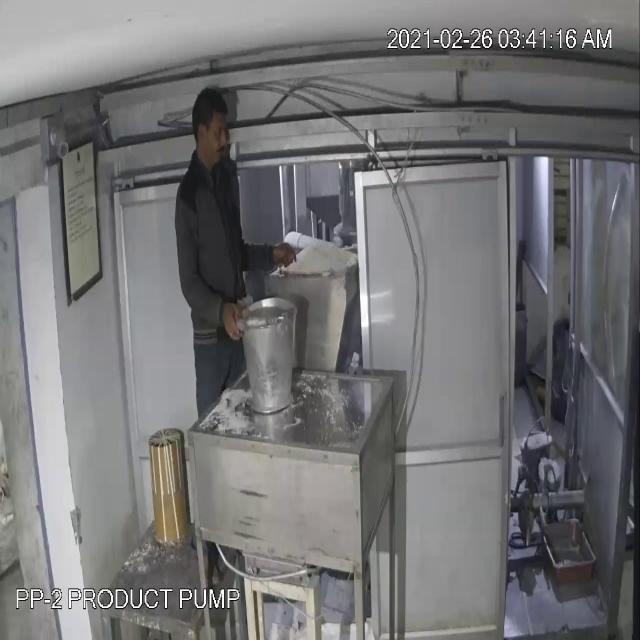no-helmet: (189, 82, 233, 154)
